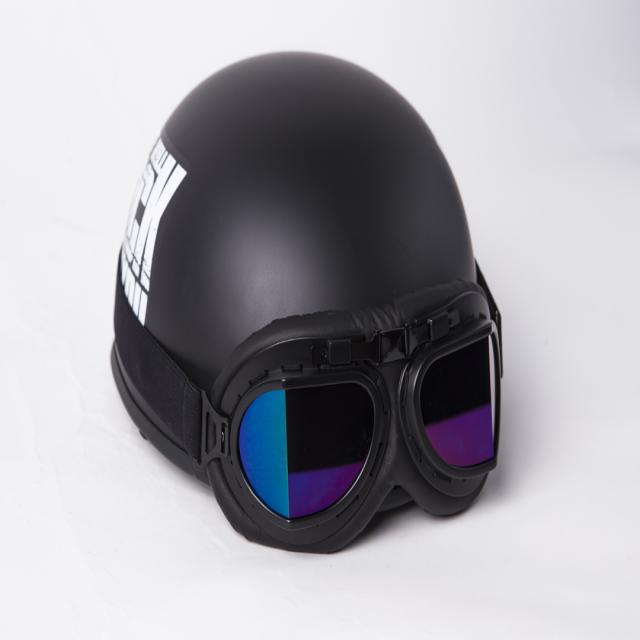Helmet: (108, 46, 508, 556)
